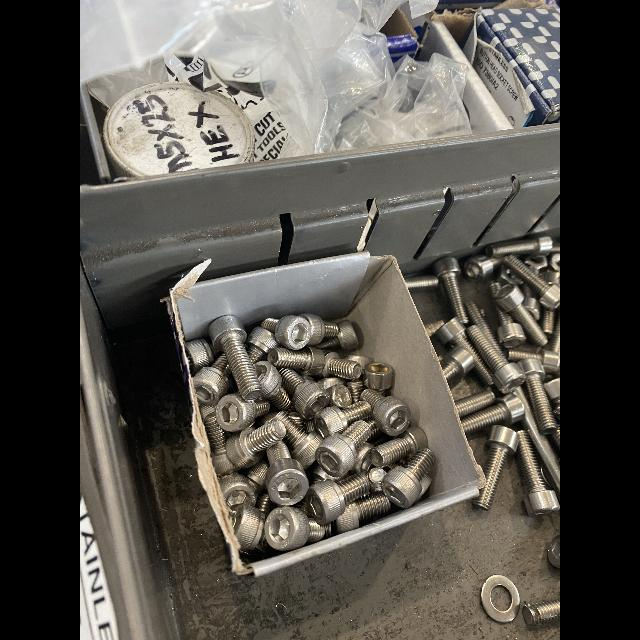Stainless Steel: (514, 387, 560, 496), (209, 315, 260, 401), (467, 326, 526, 394), (435, 317, 492, 385), (474, 427, 519, 512), (315, 420, 376, 480), (517, 430, 560, 514), (225, 414, 287, 469), (495, 284, 549, 346), (305, 473, 370, 524), (382, 449, 434, 509), (517, 357, 557, 433), (506, 256, 560, 310), (272, 411, 322, 469), (265, 439, 308, 506), (265, 507, 327, 551), (460, 392, 524, 434), (488, 282, 525, 350), (281, 368, 330, 419), (201, 406, 236, 475), (370, 427, 428, 467), (362, 390, 411, 437), (434, 257, 468, 323), (336, 493, 390, 533), (214, 394, 270, 432), (313, 401, 372, 437), (193, 354, 231, 408), (480, 575, 520, 623), (465, 301, 502, 352), (261, 315, 311, 350), (254, 361, 290, 409), (230, 504, 266, 550), (267, 347, 325, 375), (484, 236, 552, 258), (507, 348, 559, 374), (246, 327, 281, 364), (220, 473, 258, 507), (319, 350, 363, 379), (300, 314, 338, 345), (320, 320, 359, 350), (455, 390, 496, 417), (442, 347, 474, 381), (185, 338, 215, 374), (522, 600, 560, 626), (464, 256, 503, 278), (364, 363, 393, 391), (352, 442, 375, 473), (286, 410, 315, 433), (247, 460, 268, 491), (328, 384, 353, 408), (523, 284, 540, 319), (346, 353, 373, 370), (368, 468, 387, 492), (547, 535, 560, 569), (549, 314, 560, 354), (525, 255, 548, 274), (256, 493, 273, 517), (347, 381, 365, 403), (312, 463, 334, 481), (541, 309, 555, 337), (544, 378, 560, 401), (318, 377, 344, 390), (543, 269, 560, 284), (260, 411, 276, 425), (549, 253, 560, 272), (552, 427, 560, 450), (557, 131, 560, 138)
